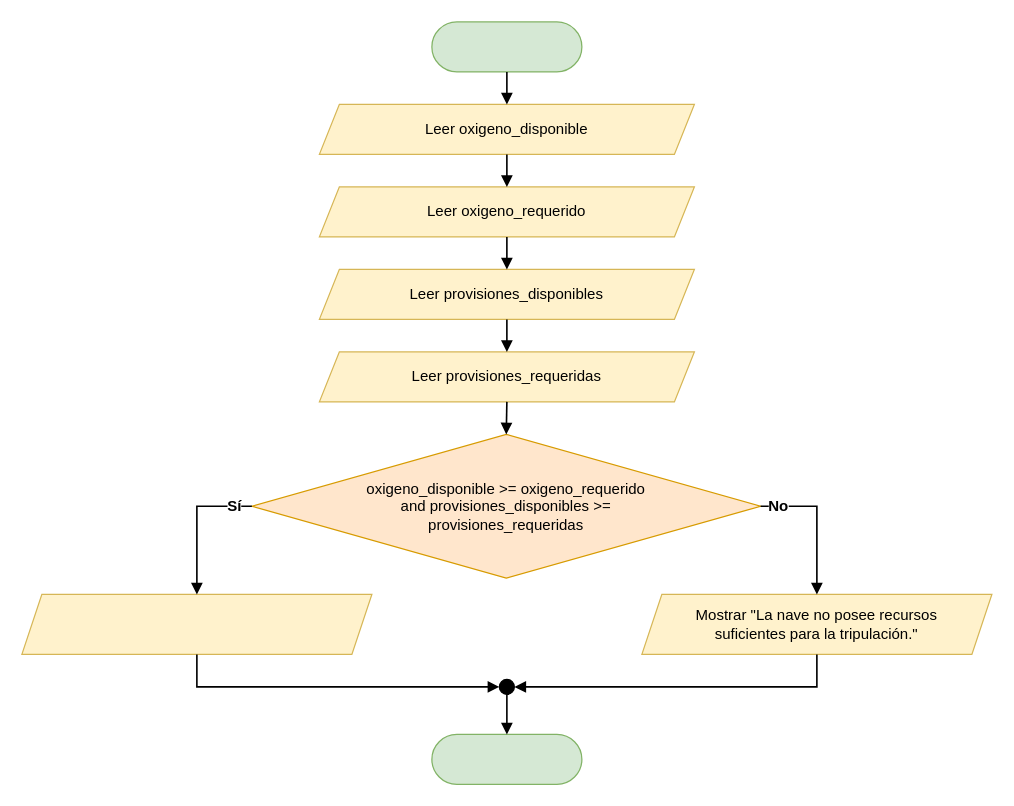
This 1014x806 diagram has some shape labels left out. The centre of each missing label's shape, as x and y in pixels:
Fin: point 506,758
Inicio: point 506,46
Mostrar "La nave posee recursos suficientes para la tripulación.": point 196,623
